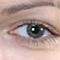eye: (27, 26, 43, 38)
